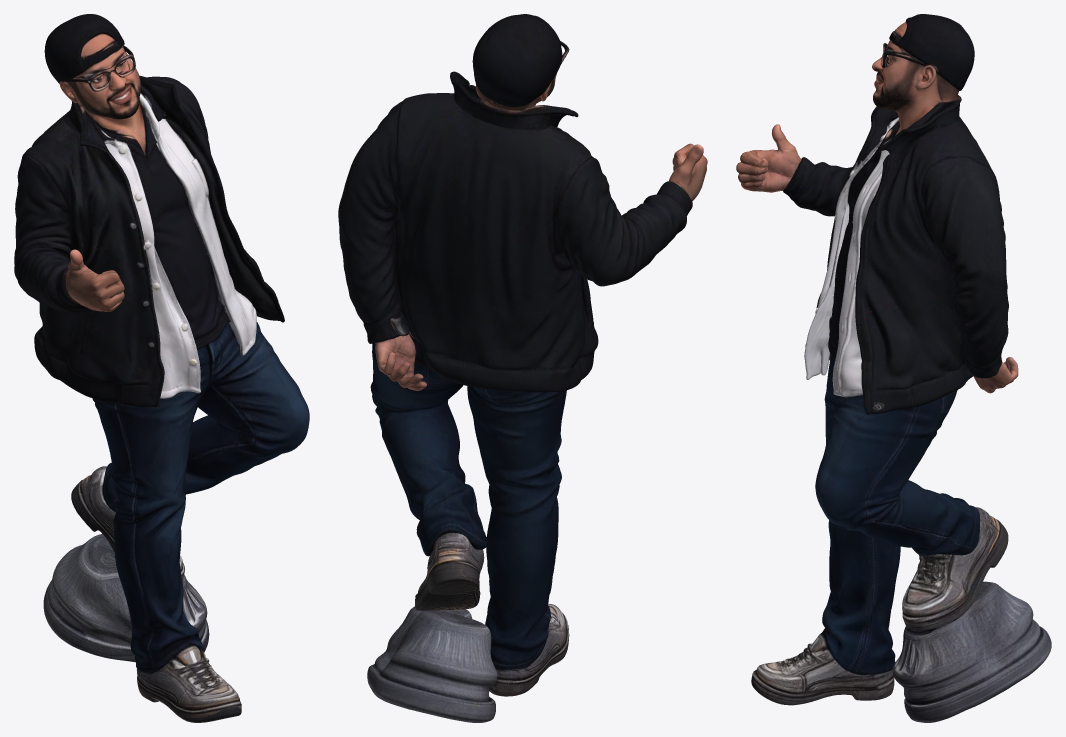
File: figura-04.glb
The picture shows the model from 3 angles, left to right: view 1: azimuth 30°, elevation 25°; view 2: azimuth 150°, elevation 25°; view 3: azimuth 270°, elevation 25°; orthographic projection. The views are drawn at different scales.
Parts seen in each view (by area): view 1: mesh_node; view 2: mesh_node; view 3: mesh_node.
Part boxes in pixels (left/top/right/bottom): mesh_node: left=14, top=14, right=309, bottom=722; mesh_node: left=338, top=14, right=707, bottom=722; mesh_node: left=736, top=14, right=1051, bottom=722.
Bounding box in the file's own units: 0.8186 × 1.9 × 0.8281.
Materials: 1 (1 with a texture image).
